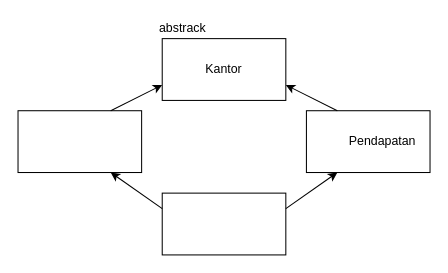
Some shapes in this 448 by 273 pixel diagram are drawn without their labels. Here are the shapes that lost their labels. From the top down, the box of each, then its label:
(17, 110, 142, 173): Karyawan
(161, 192, 286, 255): Hasil
